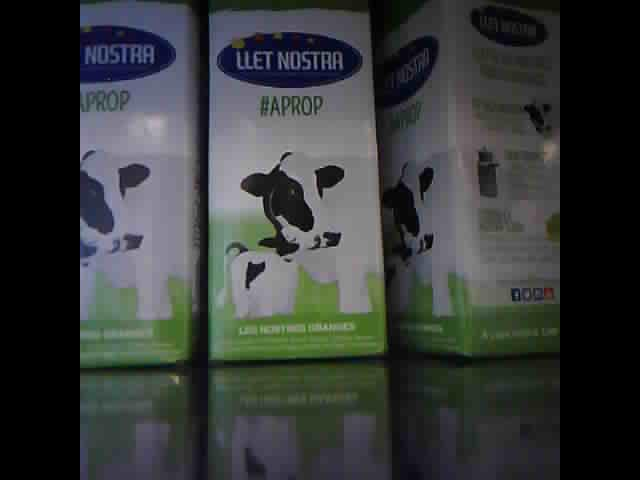leche: (206, 7, 384, 364), (392, 3, 562, 360), (81, 1, 202, 367)
